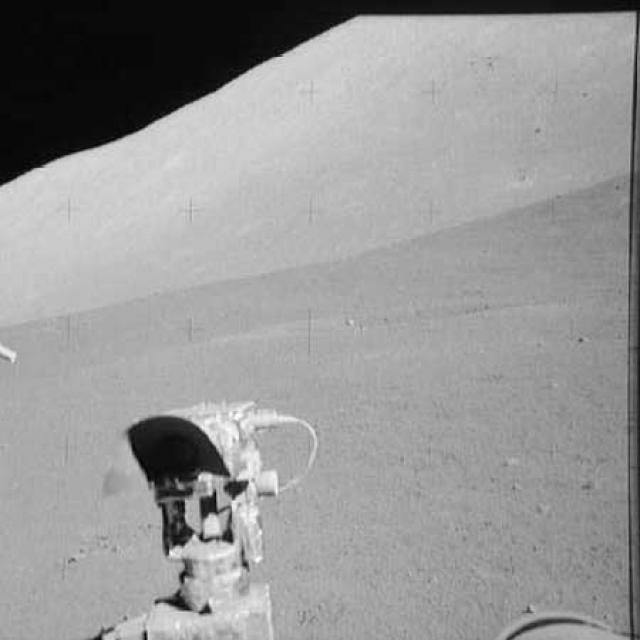artifact: (84, 393, 333, 640), (492, 598, 639, 638)
crater: (279, 296, 565, 330)
